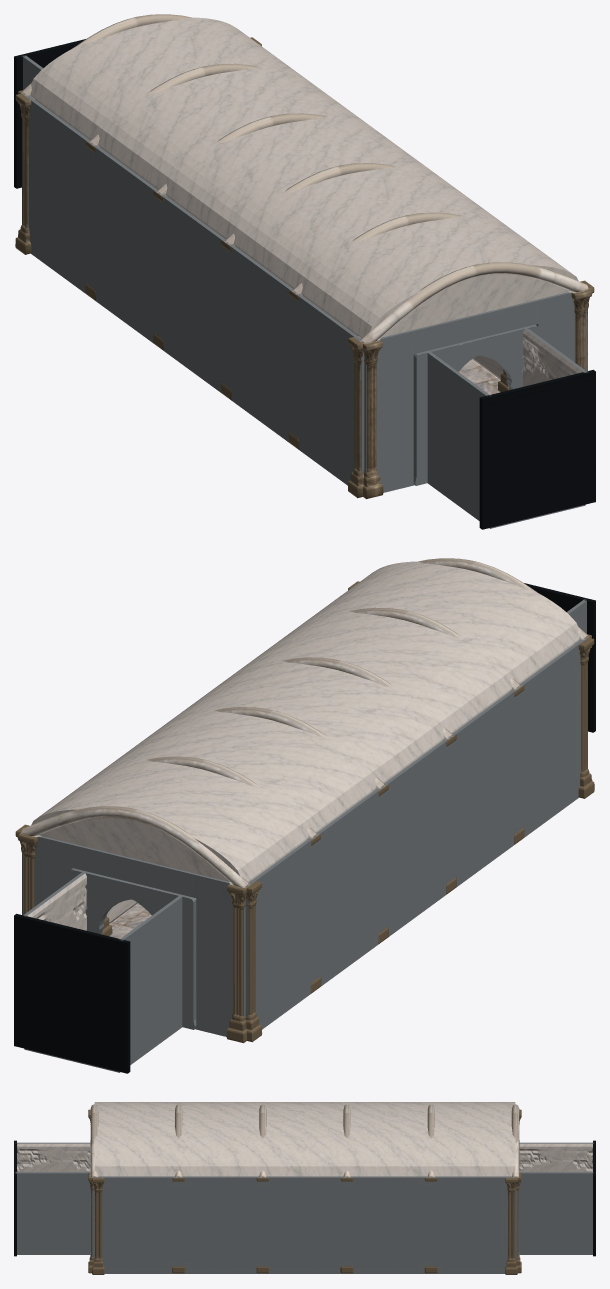
The model's file is room.glb.
3 renders of one model, top to bottom at view 1: azimuth 30°, elevation 25°; view 2: azimuth 150°, elevation 25°; view 3: azimuth 270°, elevation 25°, orthographic. The views are drawn at different scales.
Parts seen in each view (by area): view 1: MARBLE-HALL; view 2: MARBLE-HALL; view 3: MARBLE-HALL.
Boxes of the visible parts, box(x1,y1,x2,y2) form: MARBLE-HALL: box(14, 14, 595, 529); MARBLE-HALL: box(14, 558, 595, 1073); MARBLE-HALL: box(14, 1102, 595, 1274).
Size of the model in its own units: 6.48 by 5.35 by 22.12.
Materials: 1 (1 with a texture image).
